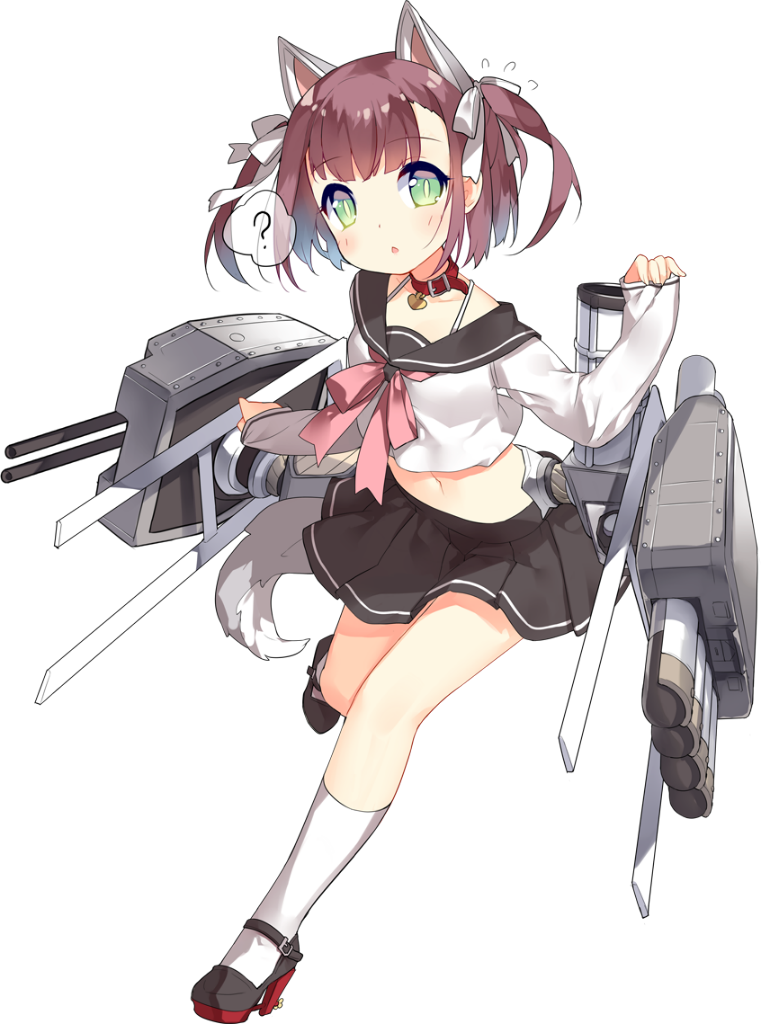person: (103, 40, 632, 846)
